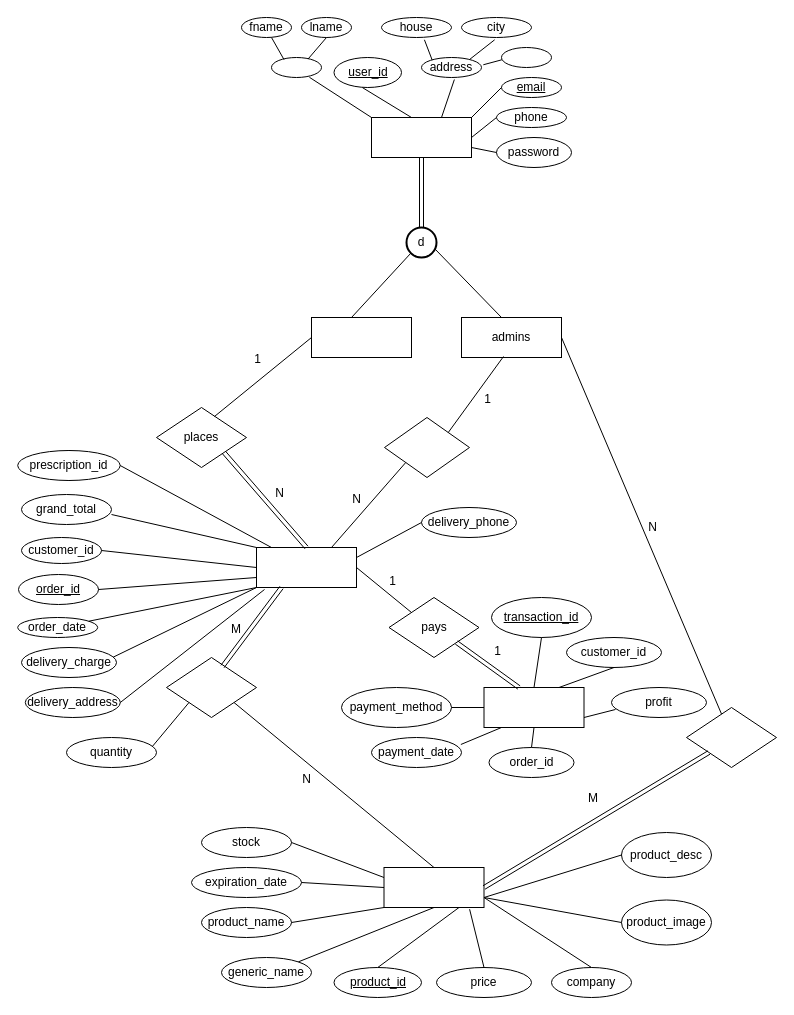
Some shapes in this 794 by 1015 pixel diagram are drawn without their labels. Here are the shapes that lost their labels. From the top down, the box of each, then its label:
(270, 56, 322, 78): name
(500, 46, 552, 68): street
(370, 116, 472, 158): users
(310, 316, 412, 358): customers
(384, 416, 470, 478): approves
(256, 546, 356, 588): orders
(166, 656, 256, 718): contains
(483, 686, 584, 728): transactions
(686, 706, 776, 768): manages
(383, 866, 484, 908): products
